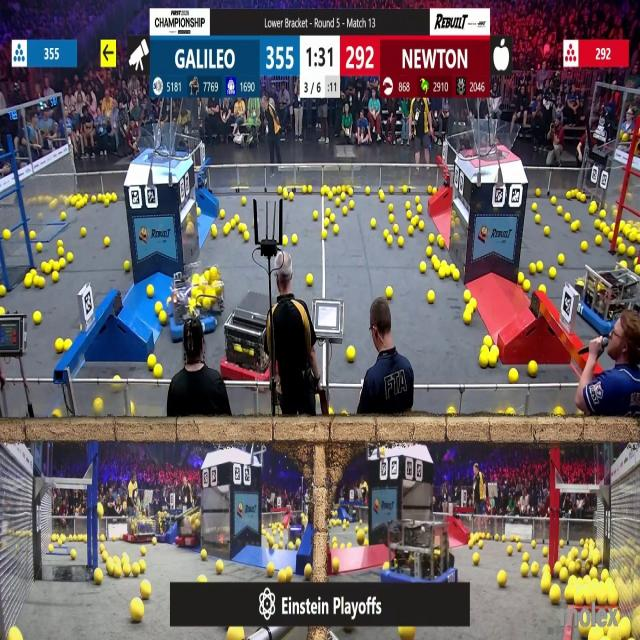ball_airborne: (98, 502, 104, 516), (622, 134, 628, 143), (380, 448, 386, 457)
ball_ground: (132, 599, 144, 622), (550, 586, 562, 604), (400, 627, 416, 640), (140, 582, 150, 600), (489, 347, 498, 365), (528, 360, 538, 376), (498, 570, 507, 586), (279, 568, 289, 582), (95, 569, 104, 583), (481, 353, 490, 367), (348, 347, 356, 362), (305, 564, 313, 579), (95, 398, 103, 413), (9, 630, 21, 640), (565, 588, 573, 603), (268, 562, 276, 576), (560, 568, 568, 582), (540, 580, 548, 594), (511, 370, 519, 383), (153, 363, 161, 376), (148, 355, 156, 368), (57, 340, 65, 353), (122, 563, 130, 576), (114, 564, 122, 577), (133, 562, 141, 575), (36, 277, 45, 288), (40, 264, 49, 275), (216, 560, 223, 574), (331, 558, 338, 572), (522, 564, 530, 576), (160, 312, 168, 324), (107, 564, 115, 576), (34, 312, 41, 325), (307, 274, 314, 287), (464, 312, 471, 325), (448, 408, 457, 418), (386, 286, 393, 298), (147, 285, 154, 297), (550, 268, 557, 280), (26, 276, 33, 288), (531, 562, 538, 574), (484, 337, 492, 347), (140, 561, 146, 574), (472, 554, 479, 565), (55, 261, 62, 272), (453, 271, 460, 282), (64, 340, 71, 351), (428, 290, 434, 302), (530, 264, 536, 276), (541, 565, 549, 574), (67, 252, 74, 262), (239, 222, 246, 232), (432, 261, 439, 271), (556, 408, 563, 418), (628, 246, 635, 256), (589, 205, 596, 215), (524, 281, 530, 292), (51, 272, 57, 283), (536, 263, 542, 274), (291, 235, 297, 246), (212, 228, 218, 239), (155, 303, 161, 314), (620, 244, 626, 255), (518, 273, 524, 284), (602, 224, 608, 235), (200, 574, 208, 582), (482, 346, 490, 354), (505, 409, 513, 417), (564, 213, 571, 222), (55, 411, 62, 420), (555, 563, 562, 572), (577, 192, 584, 201), (116, 374, 123, 383), (558, 254, 564, 264), (0, 286, 6, 296), (123, 262, 129, 272), (596, 236, 602, 246), (70, 550, 76, 560), (282, 236, 288, 246), (409, 225, 415, 235), (397, 237, 403, 247), (59, 247, 65, 257), (440, 270, 446, 280), (4, 231, 10, 241), (583, 242, 589, 252), (464, 290, 469, 302), (428, 235, 434, 245), (60, 258, 66, 268), (223, 224, 229, 234), (335, 224, 341, 234), (102, 552, 108, 562), (469, 301, 475, 311), (523, 554, 530, 562), (595, 220, 602, 228), (202, 551, 208, 560), (104, 238, 110, 247), (244, 233, 250, 242), (417, 205, 423, 214), (387, 237, 393, 246), (313, 211, 319, 220), (534, 214, 540, 223), (412, 216, 418, 225), (380, 191, 386, 200), (386, 215, 392, 224), (36, 243, 42, 252), (140, 545, 146, 554), (440, 239, 446, 248), (571, 221, 577, 230), (30, 232, 36, 241), (348, 201, 354, 210), (421, 264, 426, 274), (420, 220, 425, 230), (370, 218, 375, 228), (543, 226, 548, 236), (324, 218, 329, 228), (507, 544, 512, 554), (539, 284, 545, 292), (557, 207, 563, 215), (336, 199, 342, 207), (408, 211, 414, 219), (464, 304, 470, 312), (288, 541, 294, 549), (384, 562, 390, 570), (388, 205, 394, 213), (61, 212, 67, 220), (517, 542, 523, 550), (576, 411, 582, 419), (121, 554, 127, 562), (450, 265, 456, 273), (402, 185, 408, 193), (365, 186, 371, 194), (98, 193, 104, 201), (427, 247, 432, 256), (80, 229, 85, 238), (552, 197, 557, 206), (600, 210, 605, 219), (343, 208, 349, 215), (308, 185, 314, 192), (92, 195, 98, 202), (403, 203, 409, 210), (113, 556, 119, 563), (388, 186, 394, 193), (394, 223, 398, 233), (532, 204, 537, 212), (608, 234, 613, 242), (288, 191, 293, 199), (329, 214, 334, 222), (105, 200, 110, 208), (342, 194, 347, 202), (59, 240, 64, 248), (363, 538, 368, 546), (100, 542, 105, 550), (542, 549, 547, 557), (76, 202, 81, 210), (283, 190, 288, 198), (327, 191, 332, 199), (236, 214, 241, 222), (232, 221, 237, 229), (480, 539, 485, 547), (617, 237, 622, 245), (322, 231, 326, 240), (0, 307, 4, 316), (384, 230, 388, 239), (341, 542, 347, 548), (320, 187, 324, 196), (494, 535, 500, 541), (535, 188, 540, 195), (152, 537, 157, 544), (428, 186, 433, 193), (48, 544, 53, 551), (634, 257, 639, 264), (487, 536, 492, 543), (279, 541, 284, 548), (220, 210, 224, 218), (242, 198, 246, 206), (532, 540, 536, 548), (112, 192, 116, 200), (468, 539, 472, 547), (416, 195, 420, 203), (636, 267, 640, 275), (501, 538, 505, 546), (195, 208, 199, 215), (328, 410, 332, 417), (348, 541, 352, 548), (327, 209, 331, 216), (566, 194, 570, 201), (295, 539, 299, 546), (112, 535, 116, 541), (264, 531, 267, 539), (280, 534, 284, 540)
goal: (465, 124, 521, 159), (129, 130, 190, 161)
robot_blue: (387, 521, 456, 594), (574, 261, 638, 336), (170, 266, 230, 336), (0, 300, 22, 358), (340, 480, 370, 522), (154, 512, 177, 543)
robot_red: (221, 312, 272, 382), (174, 506, 201, 548), (126, 516, 158, 544)
